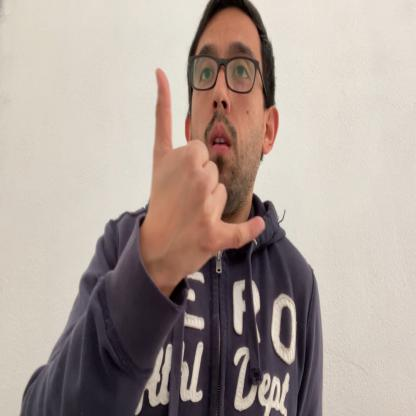Y: (149, 69, 265, 265)
